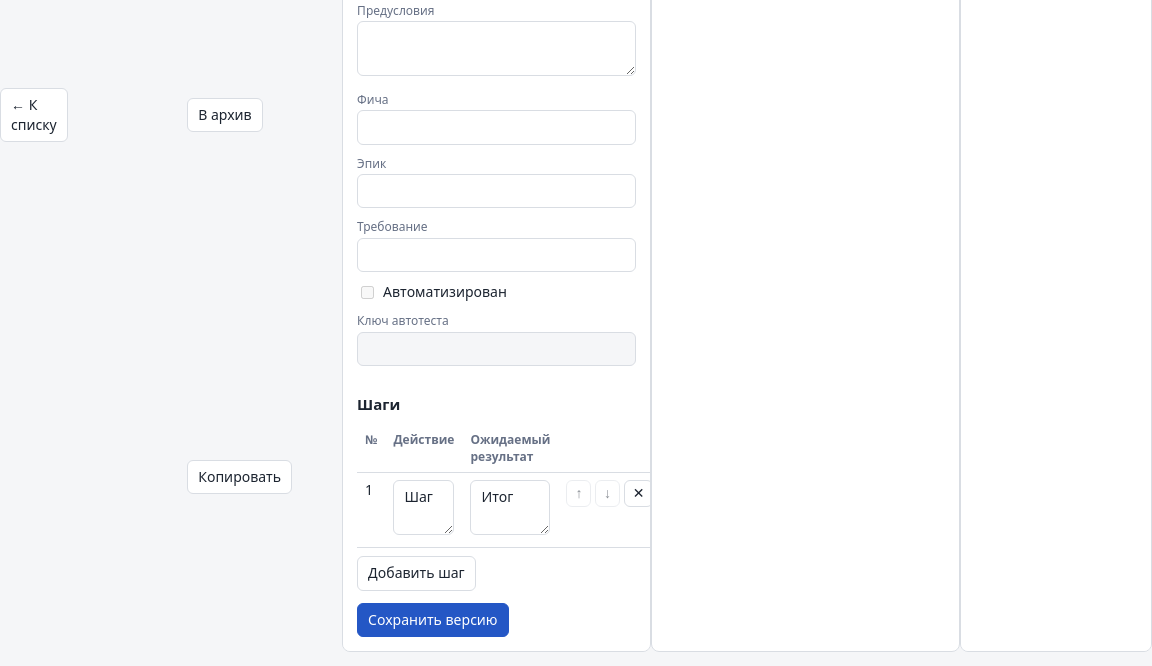
карточка кейса › незаполненный шаг не уходит на сервер
This screenshot has width=1152, height=666.
(page scrolled)
Click the button "Добавить шаг": (416, 573) [357,556,476,591]
(page scrolled)
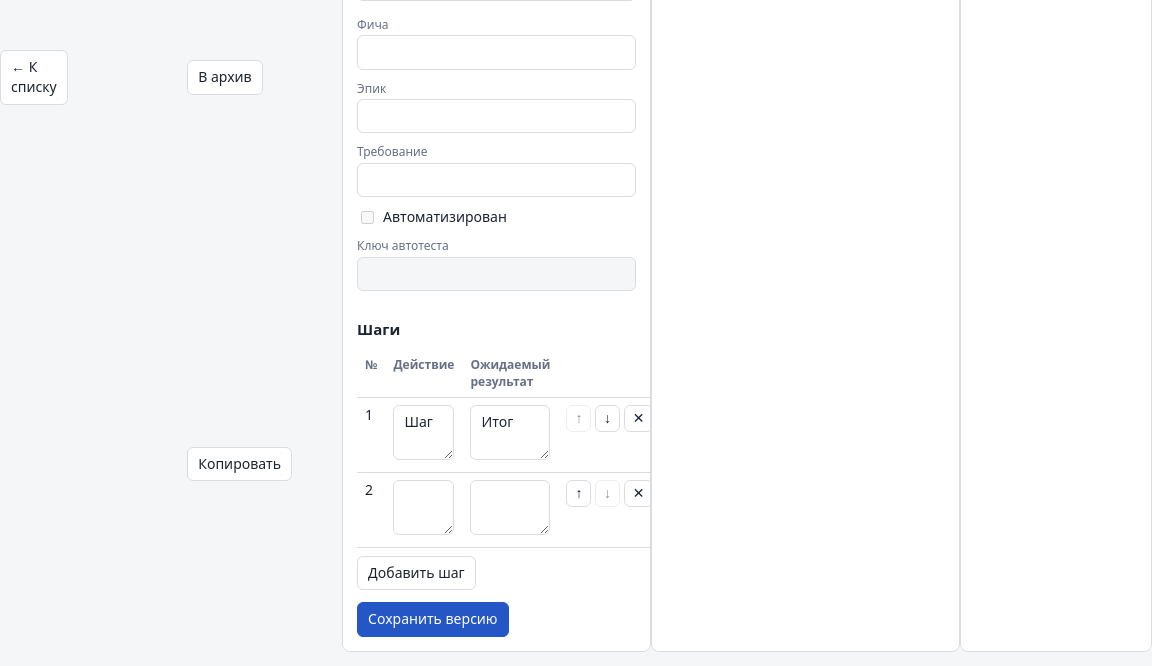
Click the button "Сохранить версию": (433, 620) [357,602,509,637]
(page scrolled)
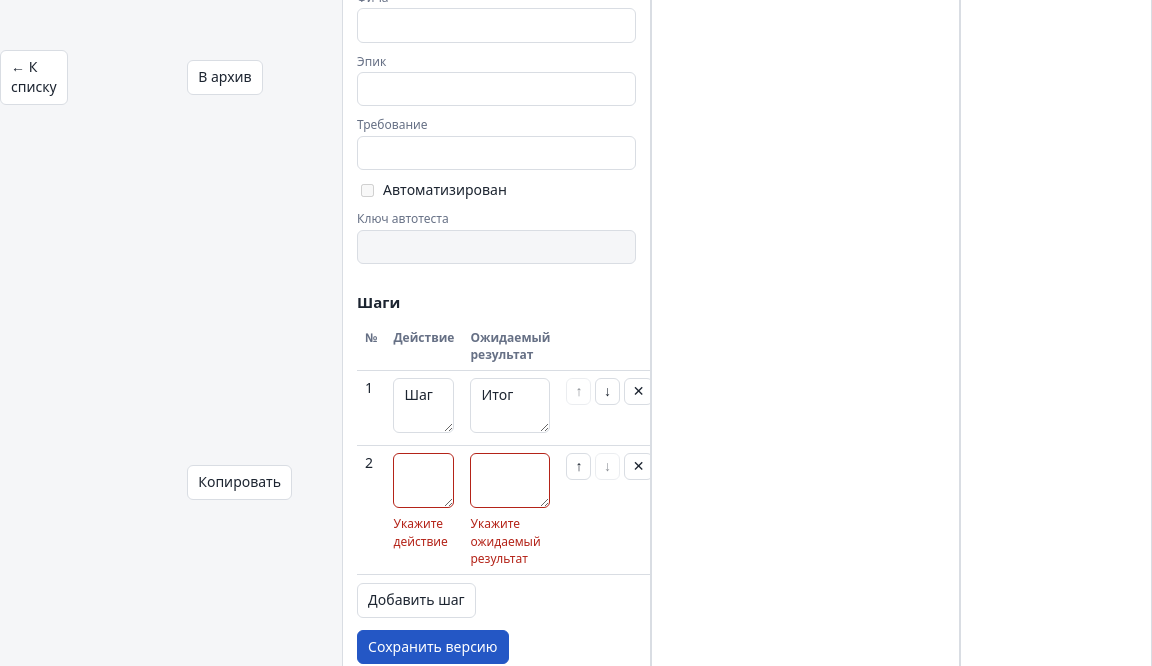
expect the text "Укажите действие" is shown: met, box [394,515,454,550]
